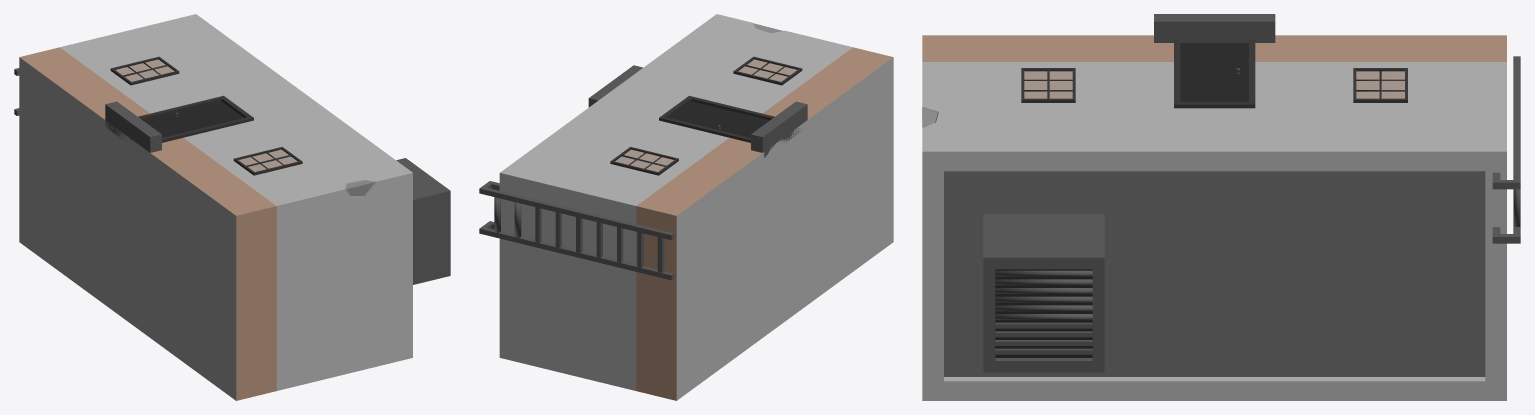
The model's file is Building1Broke.fbx.
The picture shows the model from 3 angles, left to right: view 1: azimuth 30°, elevation 25°; view 2: azimuth 150°, elevation 25°; view 3: azimuth 270°, elevation 25°; orthographic projection. The views are drawn at different scales.
Parts seen in each view (by area): view 1: Building1_fracturepart5, Building1_fracturepart70, Building1_fracturepart34, Building1_fracturepart73, Building1_fracturepart13, Building1_fracturepart76, Building1_fracturepart84, Building1_fracturepart85, Building1_fracturepart23, Building1_fracturepart63, Building1_fracturepart93, Building1_fracturepart64 (+43 smaller); view 2: Building1_fracturepart84, Building1_fracturepart74, Building1_fracturepart13, Building1_fracturepart66, Building1_fracturepart5, Building1_fracturepart100, Building1_fracturepart33, Building1_fracturepart92, Building1_fracturepart85, Building1_fracturepart23, Building1_fracturepart93, Building1_fracturepart9 (+47 smaller); view 3: Building1_fracturepart23, Building1_fracturepart21, Building1_fracturepart58, Building1_fracturepart44, Building1_fracturepart32_2, Building1_fracturepart31, Building1_fracturepart77, Building1_fracturepart60, Building1_fracturepart4, Building1_fracturepart74, Building1_fracturepart24, Building1_fracturepart95 (+44 smaller).
Boxes of the visible parts, x1,y1,x2,y2 form: Building1_fracturepart5: [186, 216, 271, 334]; Building1_fracturepart70: [202, 314, 314, 400]; Building1_fracturepart34: [313, 157, 412, 252]; Building1_fracturepart73: [250, 178, 349, 257]; Building1_fracturepart13: [46, 79, 139, 152]; Building1_fracturepart76: [314, 301, 412, 381]; Building1_fracturepart84: [19, 42, 138, 108]; Building1_fracturepart85: [178, 155, 247, 250]; Building1_fracturepart23: [160, 14, 257, 71]; Building1_fracturepart63: [311, 271, 380, 370]; Building1_fracturepart93: [129, 70, 220, 121]; Building1_fracturepart64: [296, 250, 366, 334]; Building1_fracturepart84: [615, 172, 708, 249]; Building1_fracturepart74: [499, 251, 578, 354]; Building1_fracturepart13: [684, 147, 765, 240]; Building1_fracturepart66: [510, 164, 617, 247]; Building1_fracturepart5: [844, 58, 893, 205]; Building1_fracturepart100: [605, 331, 724, 400]; Building1_fracturepart33: [499, 313, 606, 383]; Building1_fracturepart92: [499, 180, 596, 281]; Building1_fracturepart85: [769, 63, 880, 161]; Building1_fracturepart23: [499, 127, 621, 191]; Building1_fracturepart93: [615, 121, 744, 155]; Building1_fracturepart9: [610, 244, 681, 313]; Building1_fracturepart23: [1340, 104, 1506, 289]; Building1_fracturepart21: [1318, 292, 1491, 400]; Building1_fracturepart58: [1059, 119, 1215, 233]; Building1_fracturepart44: [1263, 252, 1375, 400]; Building1_fracturepart32_2: [983, 214, 1104, 372]; Building1_fracturepart31: [1232, 114, 1372, 276]; Building1_fracturepart77: [1191, 228, 1277, 400]; Building1_fracturepart60: [1188, 109, 1331, 227]; Building1_fracturepart4: [1104, 233, 1199, 351]; Building1_fracturepart74: [1406, 257, 1506, 396]; Building1_fracturepart24: [922, 128, 1019, 249]; Building1_fracturepart95: [1035, 351, 1233, 400].
Size of the model in its own units: 537 by 434 by 870.
Materials: 1 (1 with a texture image).
